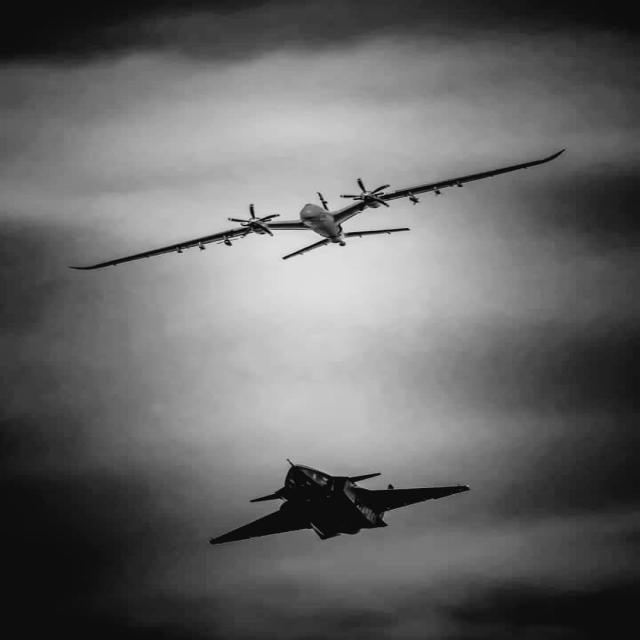iha: (0, 150, 564, 269)
